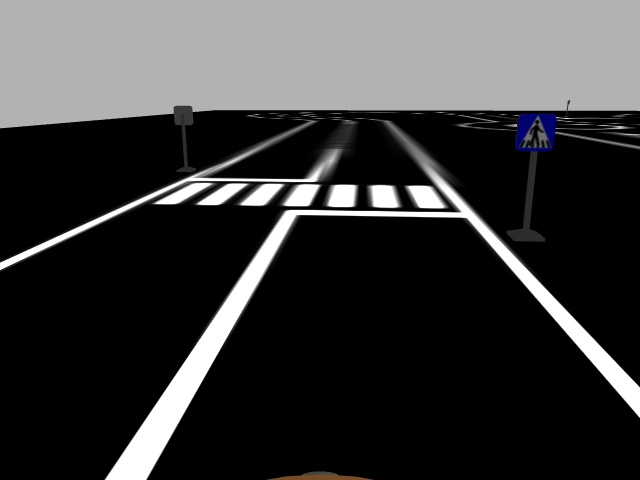crosswalk: (514, 109, 558, 155)
